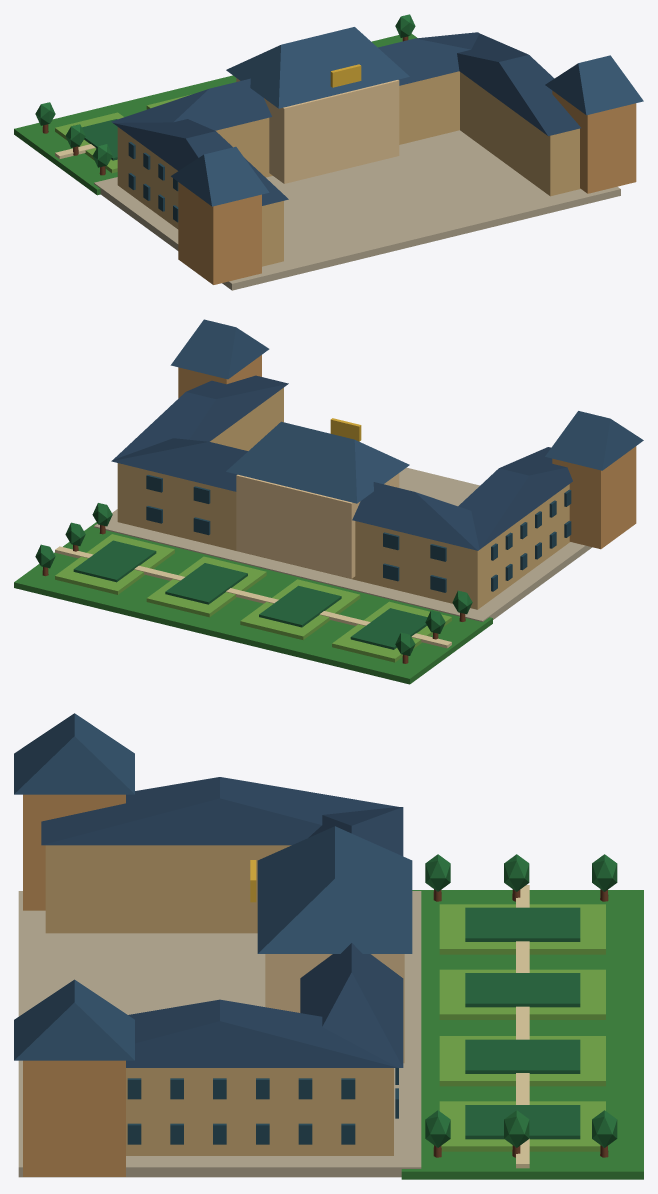
File: versailles-palace.glb
3 views of the same model, one above another, from view 1: azimuth 30°, elevation 25°; view 2: azimuth 150°, elevation 25°; view 3: azimuth 270°, elevation 25° (orthographic). The views are drawn at different scales.
Parts seen in each view (by area): view 1: base_B8B49D, body_D3C09D, roof_53615C, roof_52605E, body_D6C19A, body_DDCBA8, landscape_6D8358, landscape_657F58, landscape_536E4B, detail_6B6A5B, landscape_8C9E6A, detail_C3A567; view 2: roof_53615C, body_D3C09D, landscape_6D8358, roof_52605E, body_DDCBA8, base_B8B49D, landscape_8C9E6A, landscape_536E4B, body_D6C19A, detail_6B6A5B, landscape_657F58, landscape_D3C5A6 (+1 smaller); view 3: body_D3C09D, roof_53615C, roof_52605E, landscape_6D8358, base_B8B49D, landscape_8C9E6A, body_D6C19A, landscape_536E4B, landscape_657F58, detail_6B6A5B, body_DDCBA8, landscape_D3C5A6.
Part boxes in pixels (x1,y1,x2,y2): base_B8B49D: (94,130,620,290); body_D3C09D: (117,71,580,266); roof_53615C: (111,32,580,205); roof_52605E: (171,27,643,206); body_D6C19A: (178,90,636,284); body_DDCBA8: (236,78,399,183); landscape_6D8358: (14,33,417,195); landscape_657F58: (35,14,415,167); landscape_536E4B: (82,119,117,160); detail_6B6A5B: (128,142,178,222); landscape_8C9E6A: (55,94,191,173); detail_C3A567: (330,64,361,87); roof_53615C: (111,375,572,550); body_D3C09D: (117,387,569,609); landscape_6D8358: (14,522,492,684); roof_52605E: (170,319,643,503); body_DDCBA8: (236,473,399,578); base_B8B49D: (94,467,591,621); landscape_8C9E6A: (55,534,451,662); landscape_536E4B: (73,540,427,649); body_D6C19A: (178,355,636,549); detail_6B6A5B: (146,474,571,592); landscape_657F58: (35,503,472,655); landscape_D3C5A6: (55,546,451,648); body_D3C09D: (45,845,393,1155); roof_53615C: (41,777,403,1067); roof_52605E: (14,713,412,1060); landscape_6D8358: (401,890,643,1179); base_B8B49D: (18,891,421,1177); landscape_8C9E6A: (439,904,605,1151); body_D6C19A: (23,794,125,1176); landscape_536E4B: (465,907,580,1139); landscape_657F58: (425,854,617,1147); detail_6B6A5B: (127,1068,398,1144); body_DDCBA8: (265,954,404,1063); landscape_D3C5A6: (516,885,529,1168).
Bounding box in the file's own units: 1 × 0.2833 × 0.8667.
